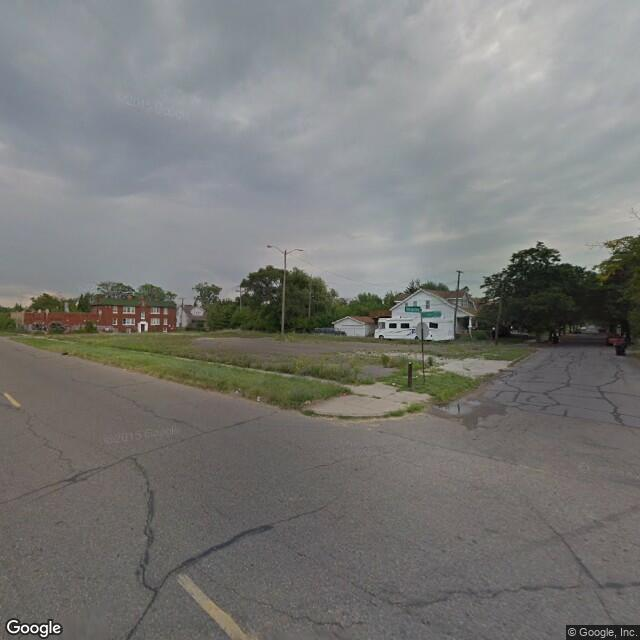litter: (255, 394, 263, 401), (304, 398, 311, 406), (234, 388, 242, 394), (391, 381, 395, 384)
